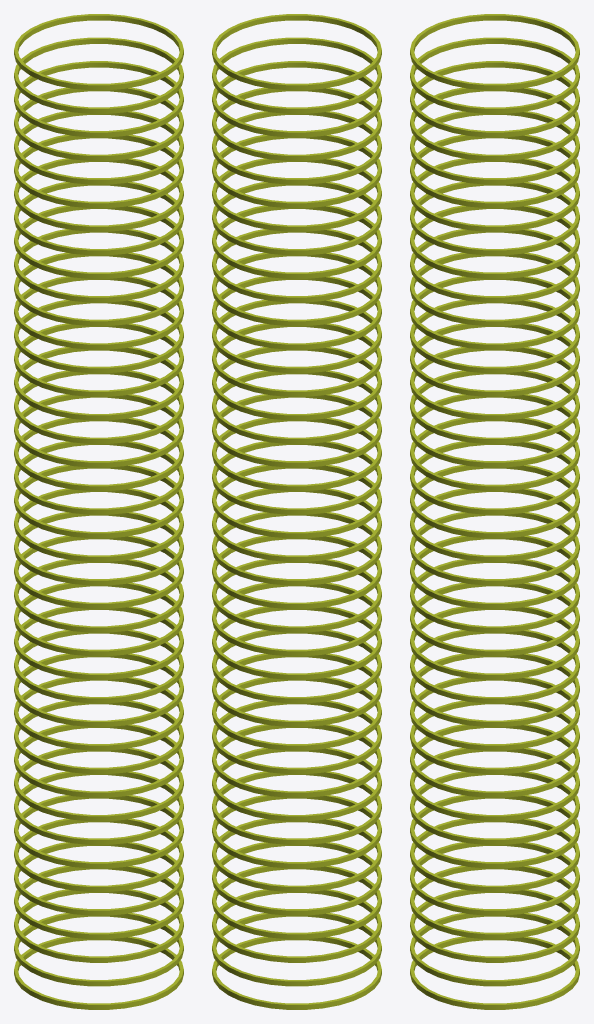
Rendered from ring.glb.
3 views of the same model, side by side, from view 1: azimuth 30°, elevation 25°; view 2: azimuth 150°, elevation 25°; view 3: azimuth 270°, elevation 25° (orthographic).
Parts seen in each view (by area): view 1: ring; view 2: ring; view 3: ring.
Part boxes in pixels (x1=…): ring: x1=14, y1=14, x2=183, y2=1009; ring: x1=212, y1=14, x2=381, y2=1009; ring: x1=410, y1=14, x2=579, y2=1009.
Bounding box in the file's own units: 11.72 × 70.82 × 11.79.
